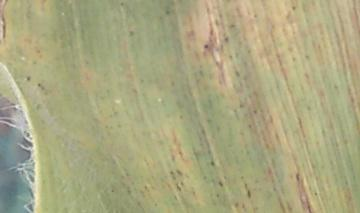tarspot: (178, 149, 187, 163), (125, 29, 137, 39), (173, 180, 182, 192), (174, 168, 184, 178), (35, 82, 46, 91), (226, 22, 237, 31), (216, 179, 225, 188), (302, 71, 311, 80), (238, 101, 246, 111), (294, 171, 301, 182), (169, 152, 176, 163), (163, 8, 172, 16), (246, 187, 252, 199), (168, 169, 176, 178), (303, 52, 311, 61), (252, 11, 259, 21), (204, 116, 212, 124), (233, 70, 241, 78), (305, 103, 313, 111), (142, 183, 149, 192), (203, 43, 210, 51), (222, 35, 230, 42), (227, 53, 234, 61), (152, 201, 159, 209), (233, 200, 239, 209), (244, 181, 249, 191), (25, 75, 32, 82), (209, 160, 216, 167), (238, 173, 245, 180), (290, 4, 297, 11), (177, 113, 184, 120), (331, 83, 338, 90), (109, 187, 116, 194), (179, 179, 185, 187), (311, 191, 319, 197), (291, 55, 297, 63), (251, 108, 257, 115), (246, 122, 252, 129), (214, 192, 220, 199), (245, 48, 252, 54), (119, 1, 124, 7)
